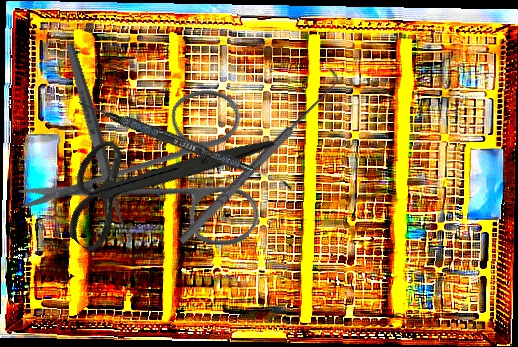Hook Surgical: (170, 67, 346, 247)
Iris Scissors: (11, 28, 309, 326), (40, 56, 277, 302)
Spatula Surgical: (75, 99, 296, 190)
Surgical Spoon: (62, 42, 134, 246)
